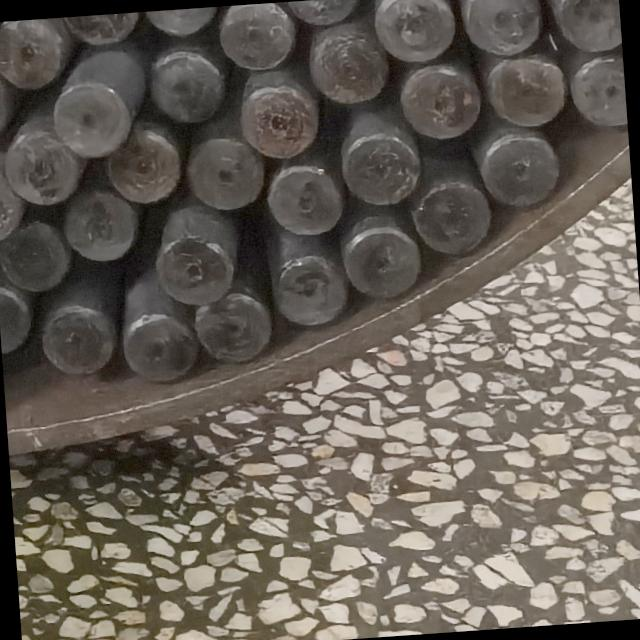tool: (224, 60, 320, 159), (0, 110, 86, 206), (99, 115, 183, 207), (479, 134, 574, 215), (307, 21, 389, 106), (397, 57, 481, 139), (264, 255, 352, 331), (146, 45, 228, 126), (484, 58, 568, 137), (193, 286, 273, 367), (263, 157, 343, 237), (182, 138, 264, 214), (58, 188, 138, 264), (420, 182, 498, 258), (119, 316, 204, 384), (350, 230, 430, 302), (347, 131, 423, 204), (0, 17, 71, 91), (0, 216, 69, 291), (372, 0, 455, 61), (56, 84, 130, 151), (47, 304, 111, 381), (158, 238, 232, 304), (569, 48, 627, 129), (467, 0, 548, 56), (219, 6, 292, 68), (136, 4, 250, 36), (0, 279, 36, 376), (558, 0, 621, 51), (61, 12, 144, 48), (272, 0, 376, 25), (0, 130, 22, 242), (0, 58, 12, 146)
